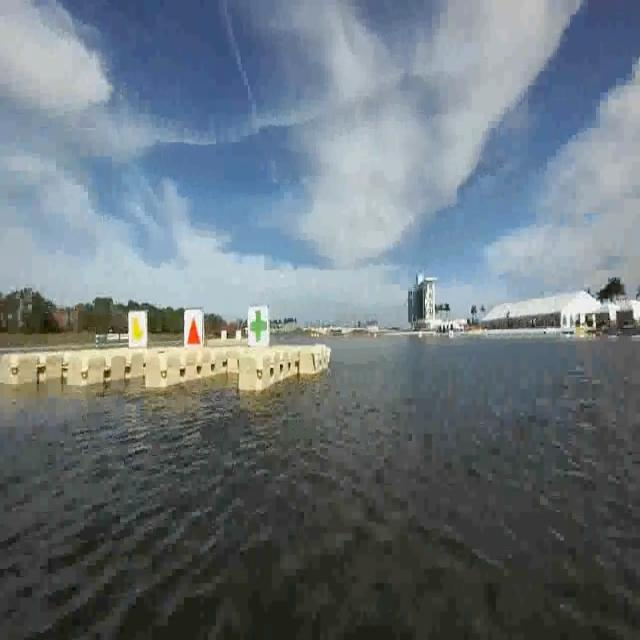blue-cross: (247, 304, 269, 344)
red-dot: (185, 308, 204, 348)
yellow-duck: (132, 314, 147, 345)
